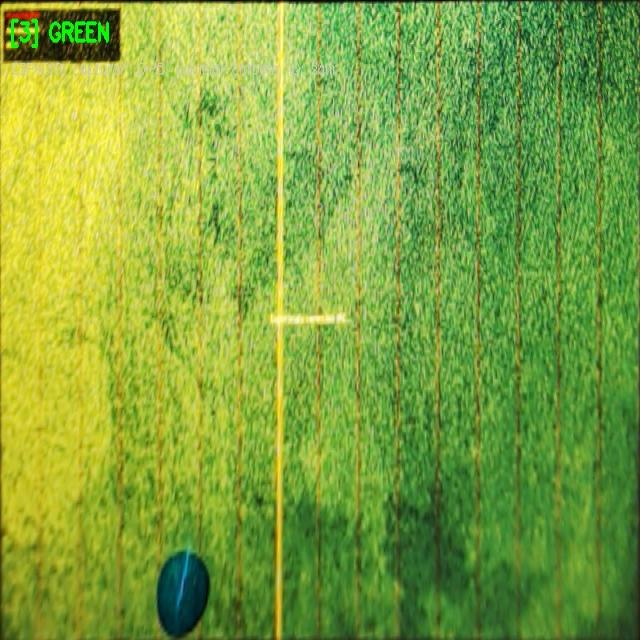green: (153, 550, 212, 638)
